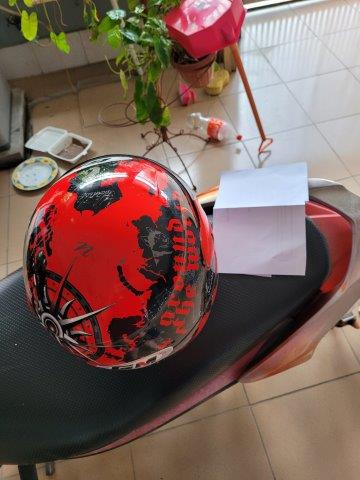botolplastik: (190, 111, 244, 146)
kertas: (211, 163, 313, 275)
